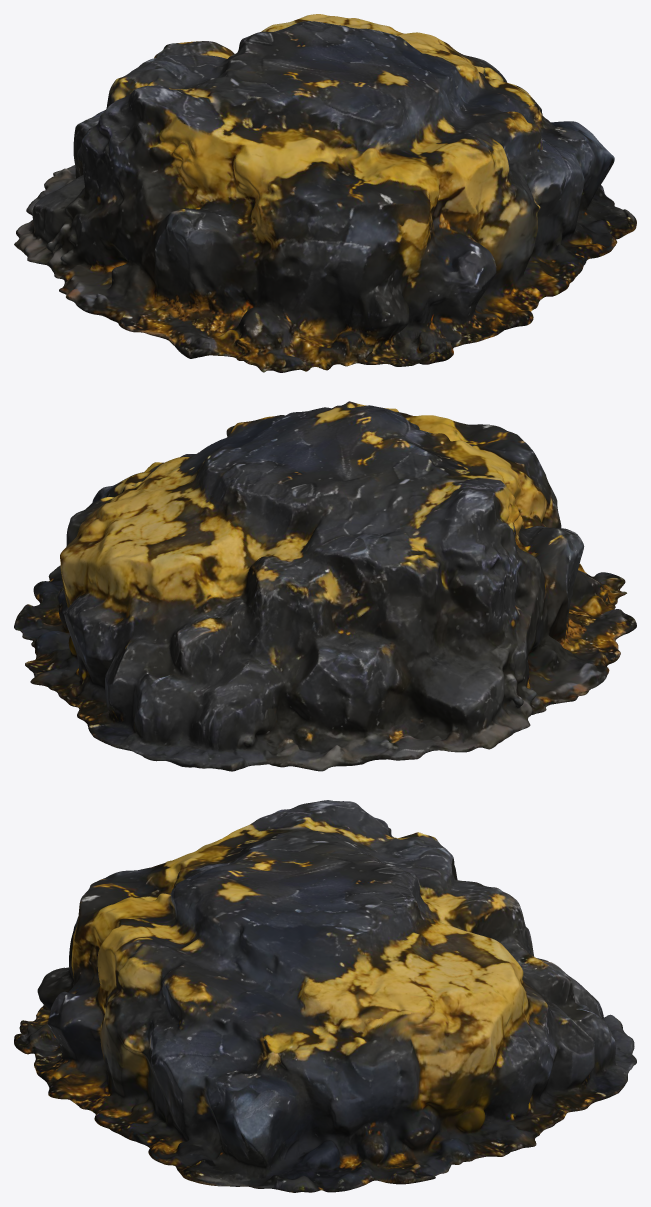
The model's file is mina_de_oro.glb.
3 views of the same model, one above another, from view 1: azimuth 30°, elevation 25°; view 2: azimuth 150°, elevation 25°; view 3: azimuth 270°, elevation 25° (orthographic). The views are drawn at different scales.
Visible parts, largest first — view 1: tripo_node_1106f67b-160a-44ff-82a1-704365931728; view 2: tripo_node_1106f67b-160a-44ff-82a1-704365931728; view 3: tripo_node_1106f67b-160a-44ff-82a1-704365931728.
Boxes of the visible parts, x1=… form: tripo_node_1106f67b-160a-44ff-82a1-704365931728: x1=14, y1=14, x2=636, y2=372; tripo_node_1106f67b-160a-44ff-82a1-704365931728: x1=14, y1=401, x2=636, y2=771; tripo_node_1106f67b-160a-44ff-82a1-704365931728: x1=14, y1=800, x2=636, y2=1192.
Bounding box in the file's own units: 0.9658 × 0.339 × 1.
1 material, 1 textured.
